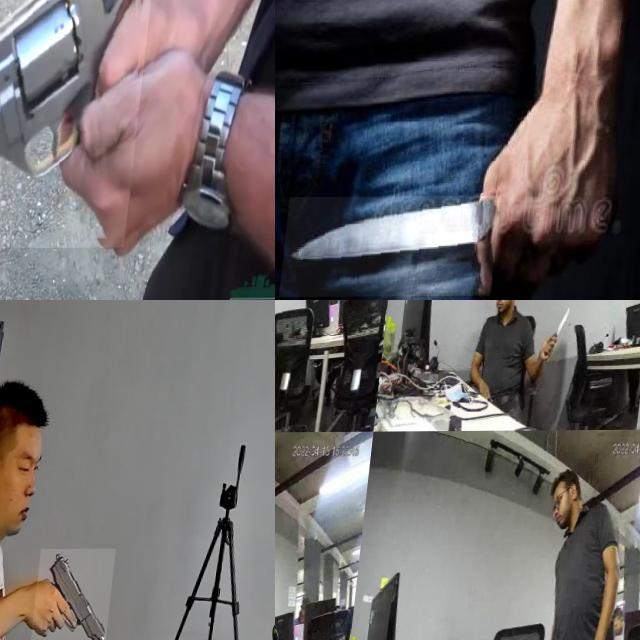-: (288, 196, 508, 298), (554, 309, 576, 346), (275, 383, 290, 402)
gun-knife-thesis - v11 Yolov5 augmented: (0, 0, 156, 249), (39, 549, 122, 640)
